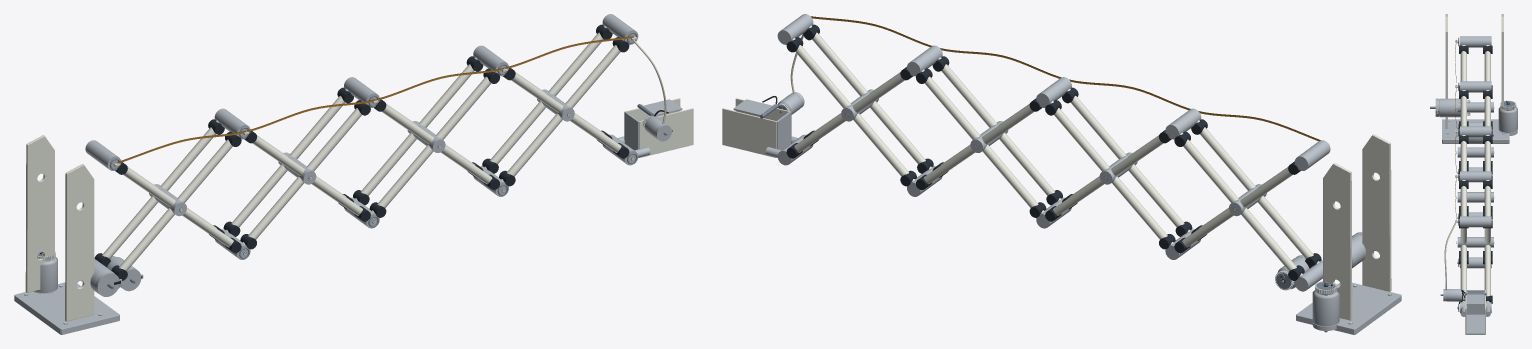
Rendered from surveyor-sampler.glb.
3 views of the same model, side by side, from view 1: azimuth 30°, elevation 25°; view 2: azimuth 150°, elevation 25°; view 3: azimuth 270°, elevation 25° (orthographic). The views are drawn at different scales.
Visible parts, largest first — view 1: ARM_LINKS_White_thermal_coating, SAMPLER_BASE_White_thermal_coating, PANTOGRAPH_PIVOTS_Machined_aluminium, ARM_LINKS_Anodized_aluminium, SAMPLER_BASE_Machined_aluminium, TOOL_White_thermal_coating, ARM_HARNESS_Polyimide_ribbon, PANTOGRAPH_PIVOTS_Steel_fixings, JOINT_0_ACTUATOR_REMOVABLE_SHELL_Machined_aluminium; view 2: ARM_LINKS_White_thermal_coating, SAMPLER_BASE_White_thermal_coating, PANTOGRAPH_PIVOTS_Machined_aluminium, ARM_LINKS_Anodized_aluminium, TOOL_White_thermal_coating, SAMPLER_BASE_Machined_aluminium, ARM_HARNESS_Polyimide_ribbon, JOINT_0_ACTUATOR_FIXED_SHELL_Machined_aluminium; view 3: PANTOGRAPH_PIVOTS_Machined_aluminium, ARM_LINKS_White_thermal_coating, ARM_LINKS_Anodized_aluminium, SAMPLER_BASE_Machined_aluminium, TOOL_Machined_aluminium, SAMPLER_BASE_White_thermal_coating, JOINT_1_ACTUATOR_REMOVABLE_SHELL_Machined_aluminium, JOINT_0_ACTUATOR_FIXED_SHELL_Machined_aluminium, SCOOP_DOOR_Machined_aluminium, SCOOP_DOOR_ACTUATOR_REMOVABLE_SHELL_Machined_aluminium, JOINT_0_ACTUATOR_REMOVABLE_SHELL_Machined_aluminium, ARM_HARNESS_Polyimide_ribbon (+6 smaller).
Boxes of the visible parts, left/top/right/bottom form: ARM_LINKS_White_thermal_coating: left=102, top=25, right=623, bottom=271; SAMPLER_BASE_White_thermal_coating: left=25, top=135, right=94, bottom=321; PANTOGRAPH_PIVOTS_Machined_aluminium: left=85, top=14, right=638, bottom=288; ARM_LINKS_Anodized_aluminium: left=94, top=24, right=629, bottom=280; SAMPLER_BASE_Machined_aluminium: left=14, top=136, right=650, bottom=334; TOOL_White_thermal_coating: left=625, top=98, right=693, bottom=157; ARM_HARNESS_Polyimide_ribbon: left=117, top=36, right=633, bottom=163; PANTOGRAPH_PIVOTS_Steel_fixings: left=110, top=32, right=637, bottom=287; JOINT_0_ACTUATOR_REMOVABLE_SHELL_Machined_aluminium: left=36, top=258, right=57, bottom=292; ARM_LINKS_White_thermal_coating: left=792, top=25, right=1319, bottom=275; SAMPLER_BASE_White_thermal_coating: left=1323, top=134, right=1391, bottom=320; PANTOGRAPH_PIVOTS_Machined_aluminium: left=777, top=14, right=1330, bottom=291; ARM_LINKS_Anodized_aluminium: left=786, top=24, right=1321, bottom=280; TOOL_White_thermal_coating: left=722, top=98, right=790, bottom=157; SAMPLER_BASE_Machined_aluminium: left=765, top=136, right=1401, bottom=334; ARM_HARNESS_Polyimide_ribbon: left=811, top=16, right=1320, bottom=141; JOINT_0_ACTUATOR_FIXED_SHELL_Machined_aluminium: left=1312, top=290, right=1339, bottom=326; PANTOGRAPH_PIVOTS_Machined_aluminium: left=1457, top=36, right=1493, bottom=313; ARM_LINKS_White_thermal_coating: left=1460, top=45, right=1490, bottom=302; ARM_LINKS_Anodized_aluminium: left=1459, top=45, right=1492, bottom=303; SAMPLER_BASE_Machined_aluminium: left=1442, top=119, right=1509, bottom=316; TOOL_Machined_aluminium: left=1466, top=290, right=1485, bottom=334; SAMPLER_BASE_White_thermal_coating: left=1445, top=14, right=1503, bottom=128; JOINT_1_ACTUATOR_REMOVABLE_SHELL_Machined_aluminium: left=1439, top=101, right=1460, bottom=117; JOINT_0_ACTUATOR_FIXED_SHELL_Machined_aluminium: left=1504, top=107, right=1517, bottom=132; SCOOP_DOOR_Machined_aluminium: left=1466, top=294, right=1484, bottom=304; SCOOP_DOOR_ACTUATOR_REMOVABLE_SHELL_Machined_aluminium: left=1446, top=291, right=1461, bottom=301; JOINT_0_ACTUATOR_REMOVABLE_SHELL_Machined_aluminium: left=1498, top=107, right=1505, bottom=132; ARM_HARNESS_Polyimide_ribbon: left=1455, top=40, right=1456, bottom=219.
Bounding box in the file's own units: 1.43 × 0.3509 × 0.2354.
